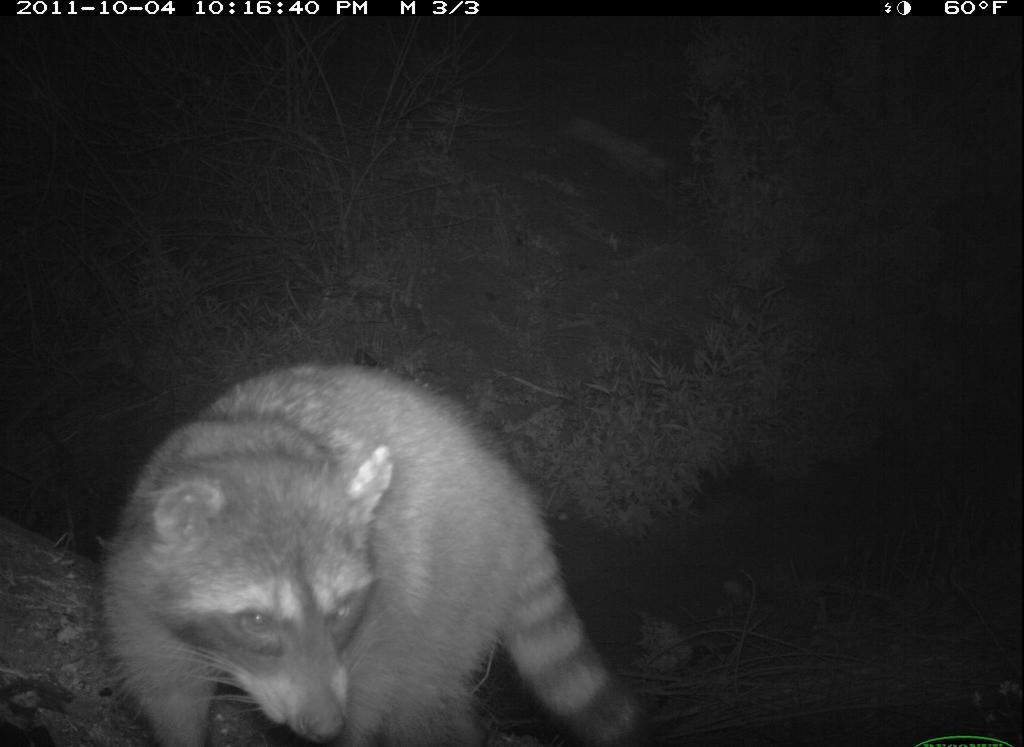raccoon: (79, 338, 662, 745)
